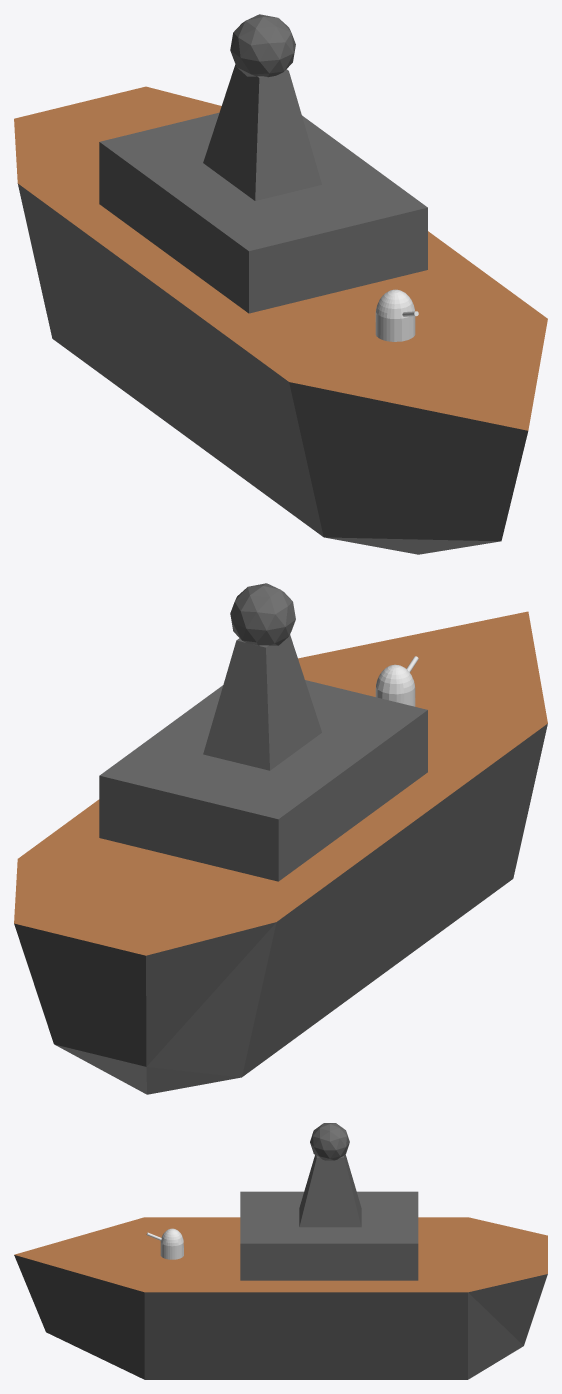
The model's file is ship.glb.
The picture shows the model from 3 angles, top to bottom: view 1: azimuth 30°, elevation 25°; view 2: azimuth 150°, elevation 25°; view 3: azimuth 270°, elevation 25°; orthographic projection. The views are drawn at different scales.
Parts seen in each view (by area): view 1: Ship; view 2: Ship; view 3: Ship.
Part boxes in pixels (x1,y1,x2,y2): Ship: [14, 14, 547, 554]; Ship: [14, 583, 547, 1094]; Ship: [14, 1123, 547, 1379].
Size of the model in its own units: 2 by 3.13 by 6.
